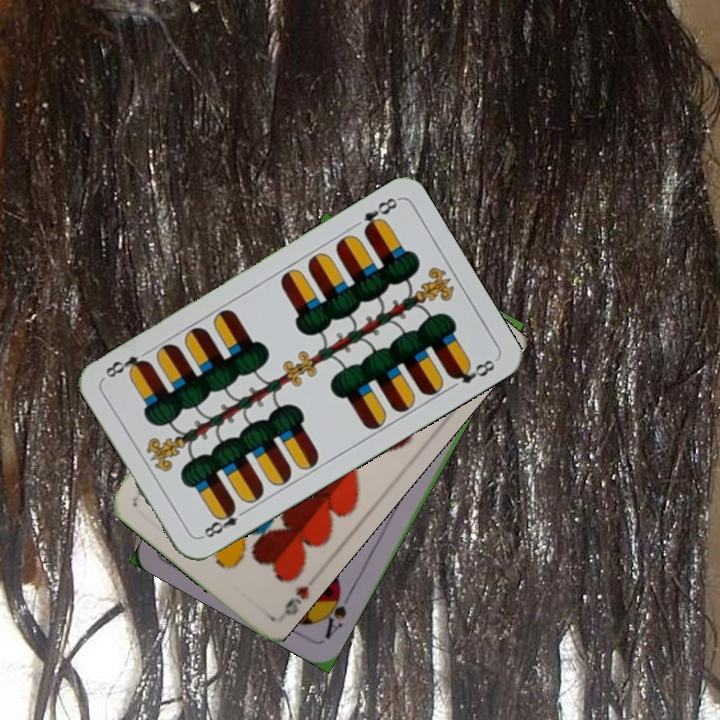E8: (196, 501, 250, 541), (359, 193, 400, 236)
H9: (280, 582, 312, 618)
SA: (317, 583, 354, 642)
